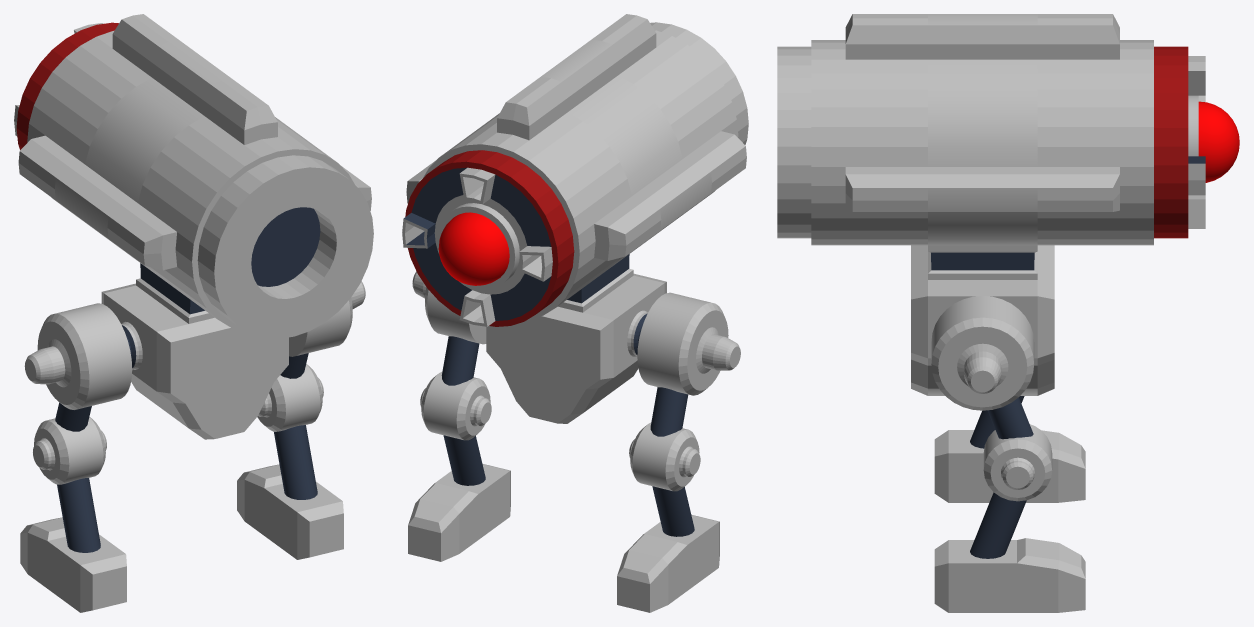
The model's file is modelSoldier_001.fbx.
The picture shows the model from 3 angles, left to right: view 1: azimuth 30°, elevation 25°; view 2: azimuth 150°, elevation 25°; view 3: azimuth 270°, elevation 25°; orthographic projection. The views are drawn at different scales.
Parts seen in each view (by area): view 1: soldierMain_001, soldierLeftHip_001, soldierRightFoot_001, soldierLeftFoot_001, soldierLeftKnee_001, soldierRightKnee_001, soldierLeftCalf_001, soldierRightCalf_001, soldierRightHip_001, soldierLeftThigh_001; view 2: soldierMain_001, soldierLeftHip_001, soldierLeftFoot_001, soldierRightFoot_001, soldierCore_001, soldierLeftKnee_001, soldierRightKnee_001, soldierRightHip_001, soldierRightCalf_001, soldierLeftCalf_001, soldierLeftThigh_001, soldierRightThigh_001; view 3: soldierMain_001, soldierRightFoot_001, soldierRightHip_001, soldierLeftFoot_001, soldierRightKnee_001, soldierCore_001, soldierRightCalf_001, soldierRightThigh_001.
Boxes of the visible parts, box(x1,y1,x2,y2) form: soldierMain_001: box(14, 14, 373, 439); soldierLeftHip_001: box(24, 303, 142, 409); soldierRightFoot_001: box(237, 464, 343, 559); soldierLeftFoot_001: box(20, 517, 126, 612); soldierLeftKnee_001: box(33, 417, 106, 484); soldierRightKnee_001: box(257, 364, 323, 431); soldierLeftCalf_001: box(57, 478, 100, 552); soldierRightCalf_001: box(274, 425, 317, 499); soldierRightHip_001: box(289, 281, 365, 356); soldierLeftThigh_001: box(55, 402, 91, 431); soldierMain_001: box(402, 14, 748, 423); soldierLeftHip_001: box(627, 292, 740, 395); soldierLeftFoot_001: box(617, 514, 719, 612); soldierRightFoot_001: box(408, 463, 510, 561); soldierCore_001: box(438, 203, 519, 289); soldierLeftKnee_001: box(629, 422, 700, 491); soldierRightKnee_001: box(420, 372, 491, 440); soldierRightHip_001: box(412, 271, 486, 344); soldierRightCalf_001: box(443, 435, 485, 485); soldierLeftCalf_001: box(652, 486, 694, 536); soldierLeftThigh_001: box(650, 387, 688, 436); soldierRightThigh_001: box(441, 336, 479, 385); soldierMain_001: box(777, 14, 1205, 395); soldierRightFoot_001: box(934, 538, 1085, 612); soldierRightHip_001: box(931, 296, 1034, 410); soldierLeftFoot_001: box(934, 430, 1085, 502); soldierRightKnee_001: box(983, 424, 1052, 501); soldierCore_001: box(1188, 95, 1239, 182); soldierRightCalf_001: box(970, 492, 1026, 558); soldierRightThigh_001: box(987, 397, 1033, 439).
Bounding box in the file's own units: 57.74 × 85 × 67.5.
